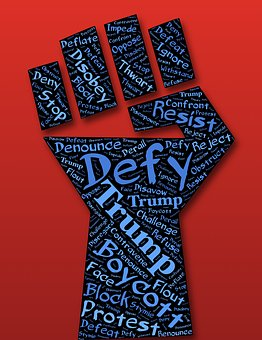fist: (45, 21, 208, 210)
